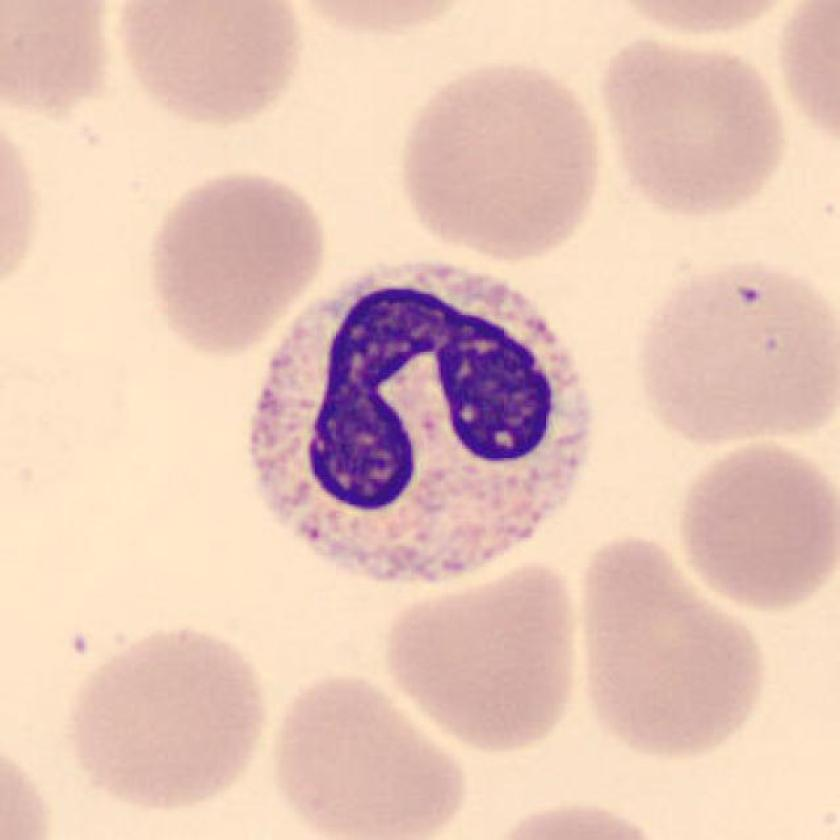neutrophil: (252, 268, 594, 581)
